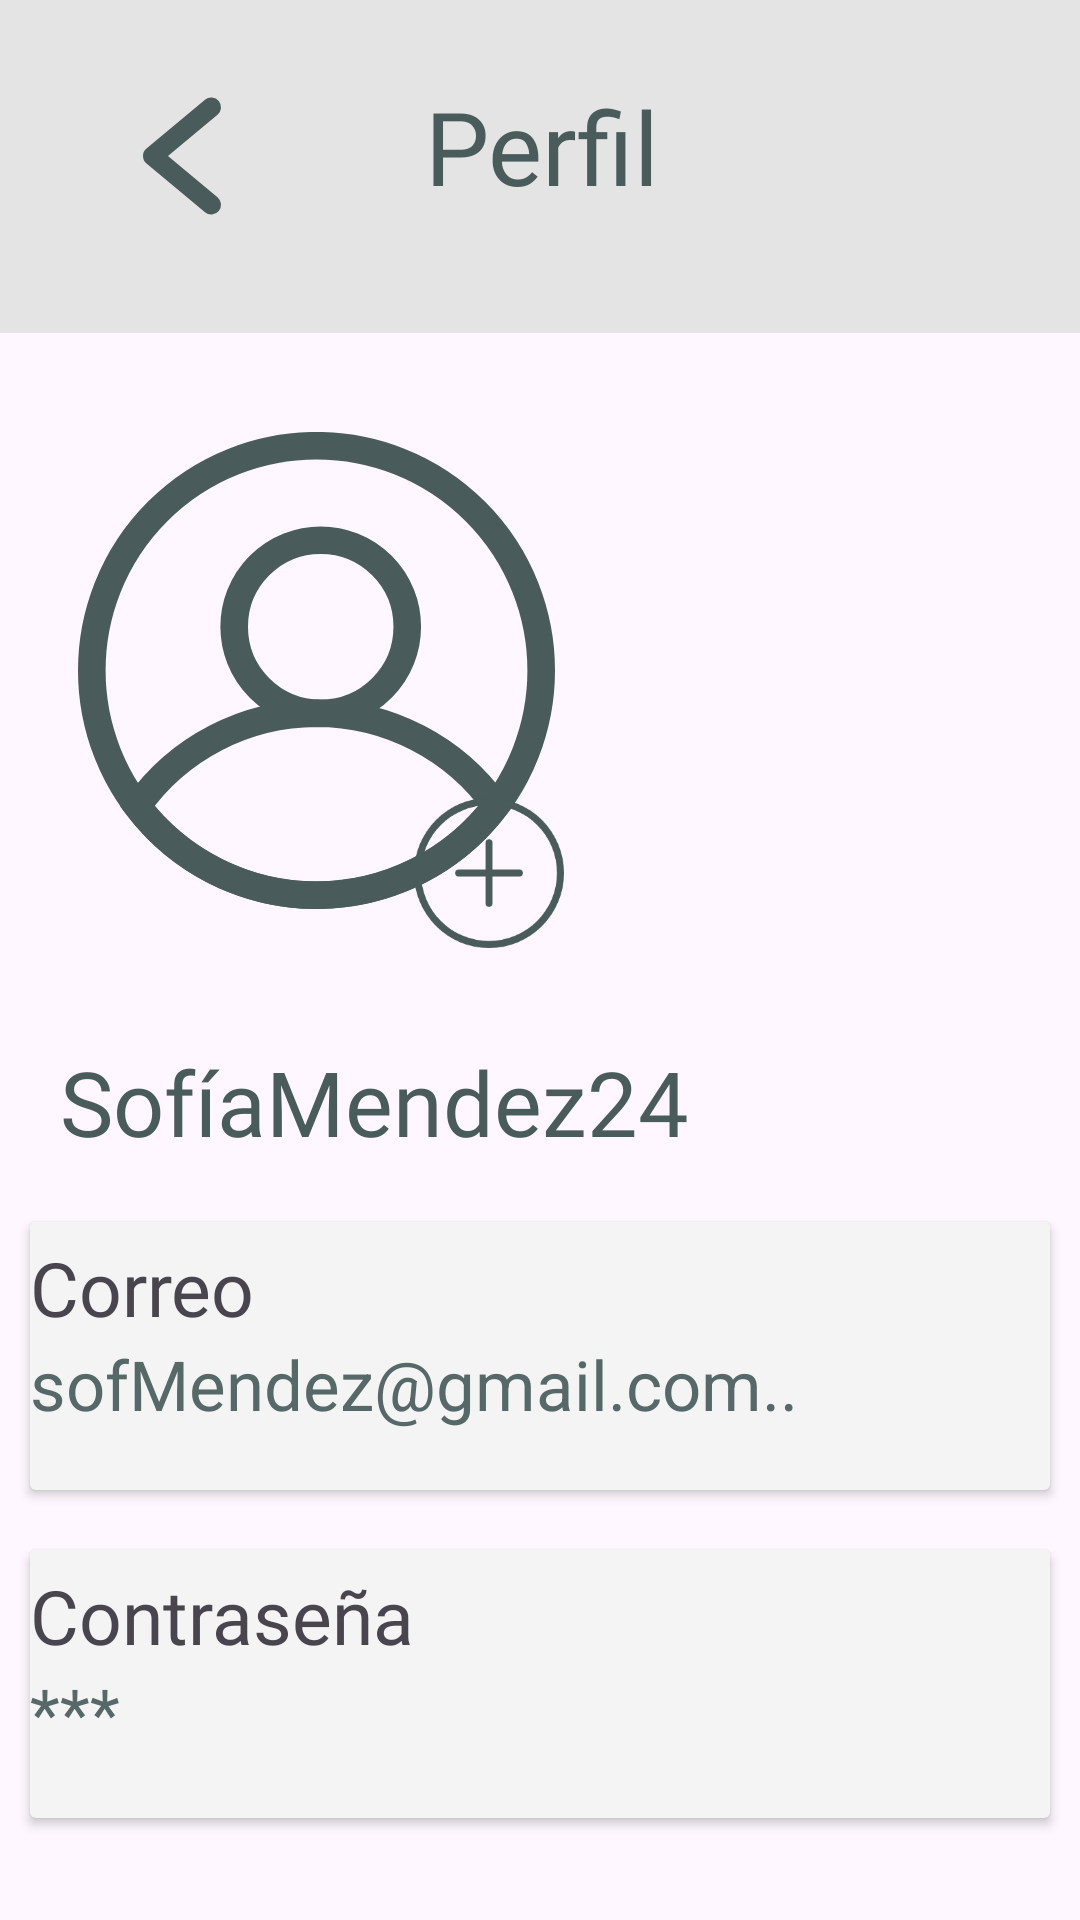

Named icons in this screenshot (1080w x 1920h) and their centers, [x,y]:
Flecha hacia atras: [182,156]
